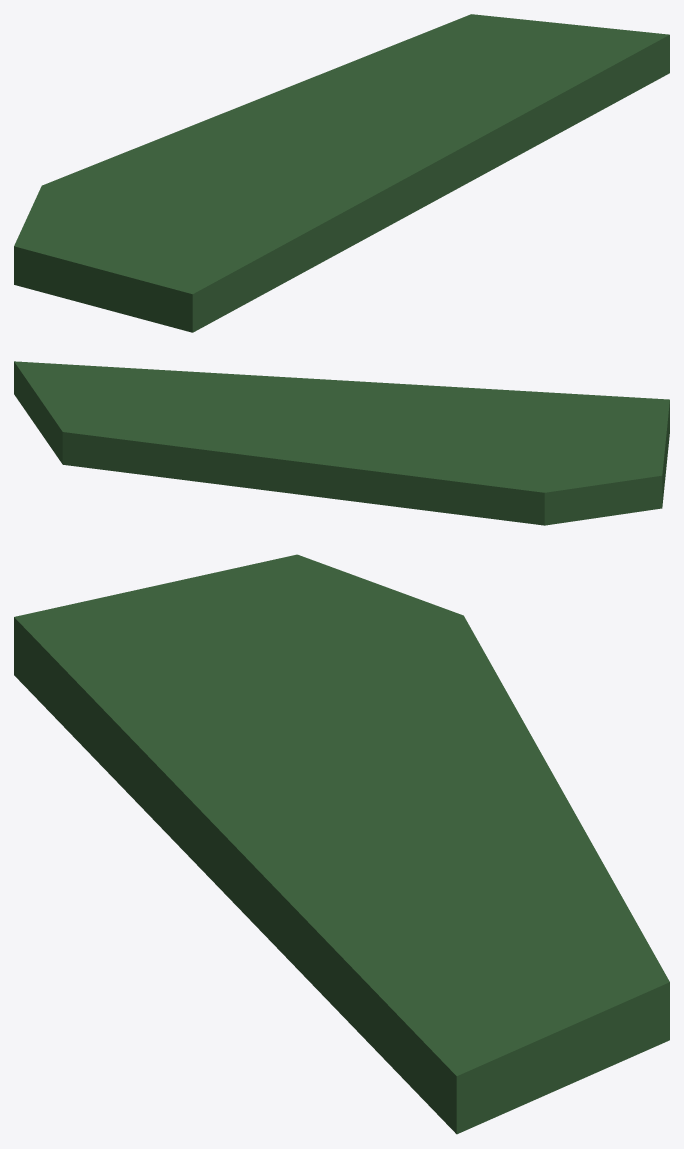
Rendered from x_proval_00_125_1_rmstrd.fbx.
3 renders of one model, top to bottom at view 1: azimuth 30°, elevation 25°; view 2: azimuth 150°, elevation 25°; view 3: azimuth 270°, elevation 25°, orthographic. The views are drawn at different scales.
Parts seen in each view (by area): view 1: x_proval_00_125_1_rmstrd1; view 2: x_proval_00_125_1_rmstrd1; view 3: x_proval_00_125_1_rmstrd1.
Part boxes in pixels (x1=…): x_proval_00_125_1_rmstrd1: x1=14, y1=14, x2=669, y2=332; x_proval_00_125_1_rmstrd1: x1=14, y1=361, x2=669, y2=525; x_proval_00_125_1_rmstrd1: x1=14, y1=554, x2=669, y2=1134.
Bounding box in the file's own units: 3.85 × 0.2 × 2.04.
